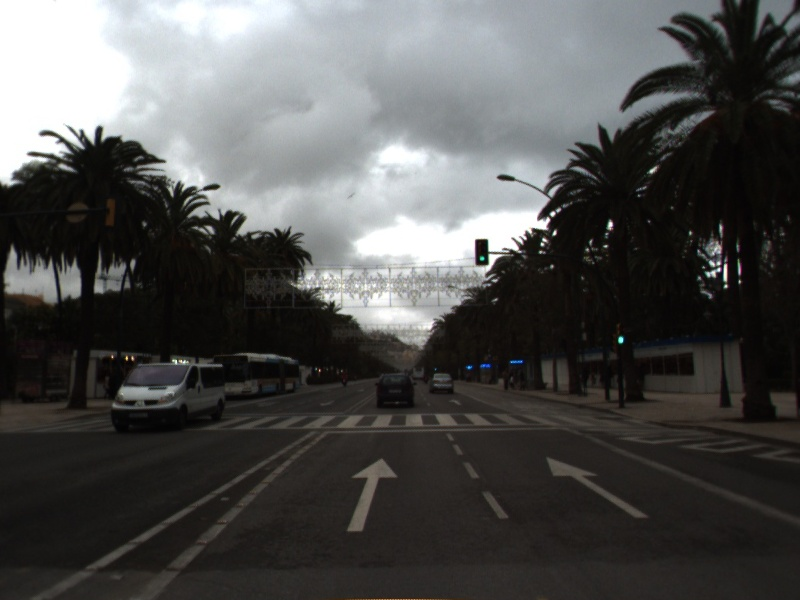STRAIGHT: (544, 455, 651, 520), (345, 456, 400, 533), (447, 397, 464, 407)
